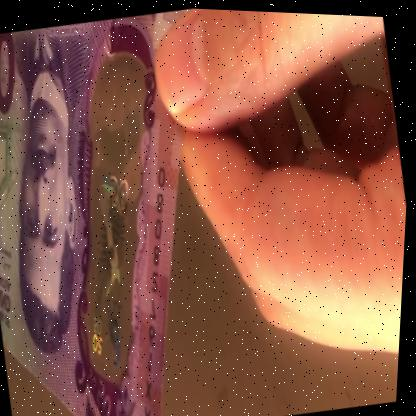50F: (49, 85, 170, 378)
